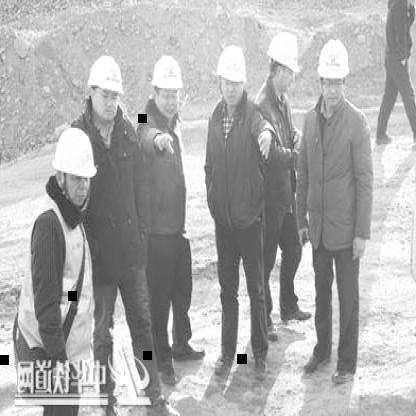helmet: (51, 126, 98, 181), (264, 26, 302, 75), (86, 53, 126, 96), (318, 37, 352, 83), (148, 53, 186, 93), (216, 44, 249, 86)
